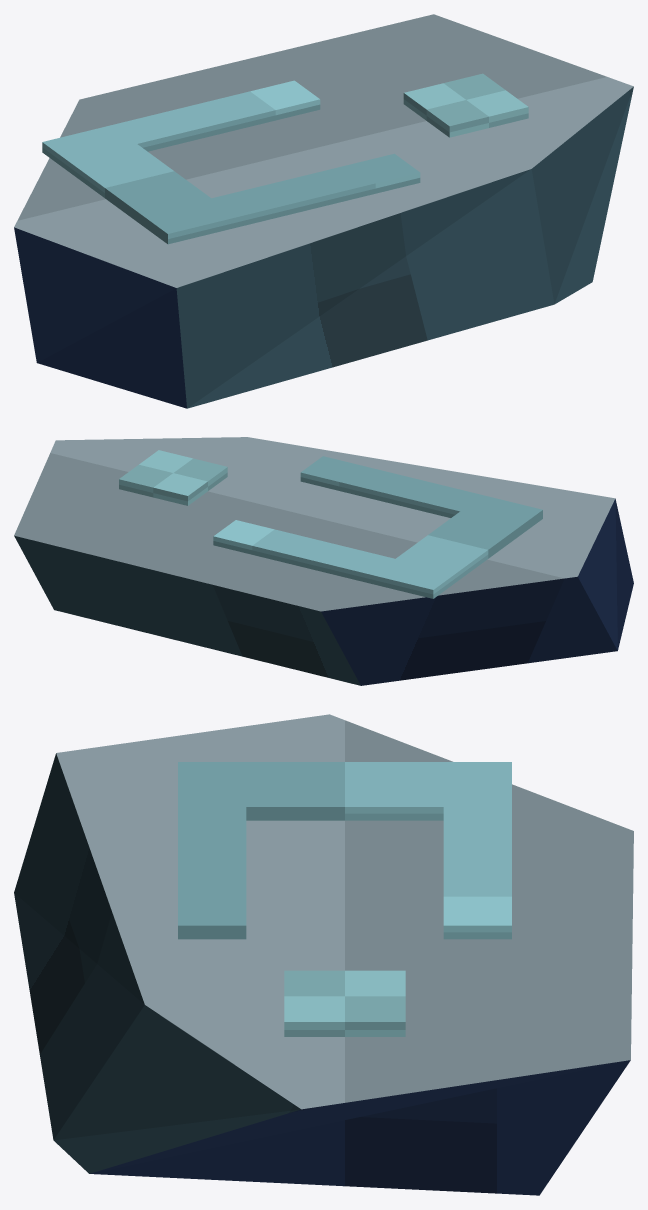
The model's file is jindan_taiyin_ingot.obj.
3 views of the same model, one above another, from view 1: azimuth 30°, elevation 25°; view 2: azimuth 150°, elevation 25°; view 3: azimuth 270°, elevation 25° (orthographic). The views are drawn at different scales.
Parts seen in each view (by area): view 1: ingot_body, crescent_seal, moon_marrow; view 2: ingot_body, crescent_seal, moon_marrow; view 3: ingot_body, crescent_seal, moon_marrow.
Boxes of the visible parts, x1,y1,x2,y2 form: ingot_body: [14, 14, 633, 408]; crescent_seal: [42, 80, 420, 244]; moon_marrow: [403, 73, 528, 137]; ingot_body: [14, 437, 633, 685]; crescent_seal: [213, 456, 542, 598]; moon_marrow: [119, 450, 227, 505]; ingot_body: [14, 714, 633, 1195]; crescent_seal: [178, 762, 511, 939]; moon_marrow: [284, 970, 405, 1036].
Size of the model in its own units: 0.3922 by 0.0719 by 0.2552.
